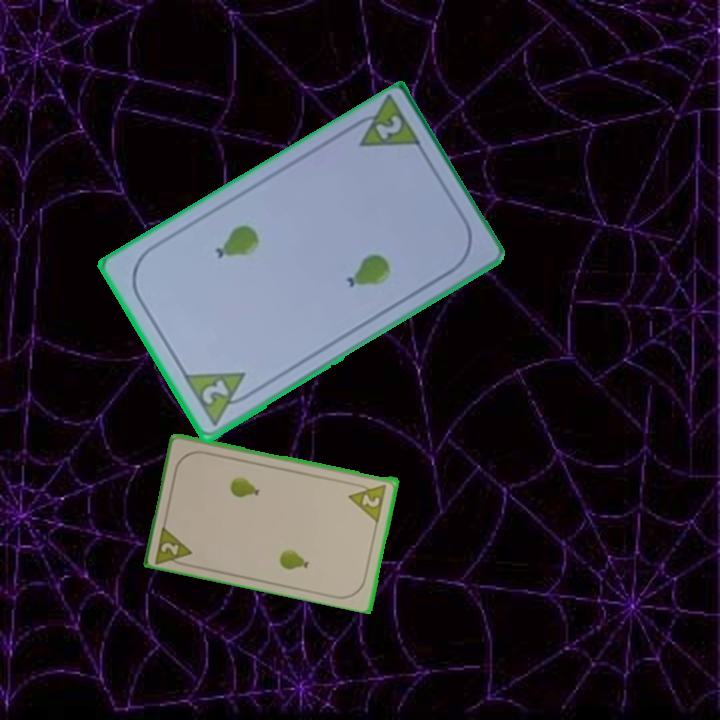2p: (179, 368, 258, 430), (152, 520, 196, 569), (346, 478, 390, 523), (371, 112, 405, 144)
